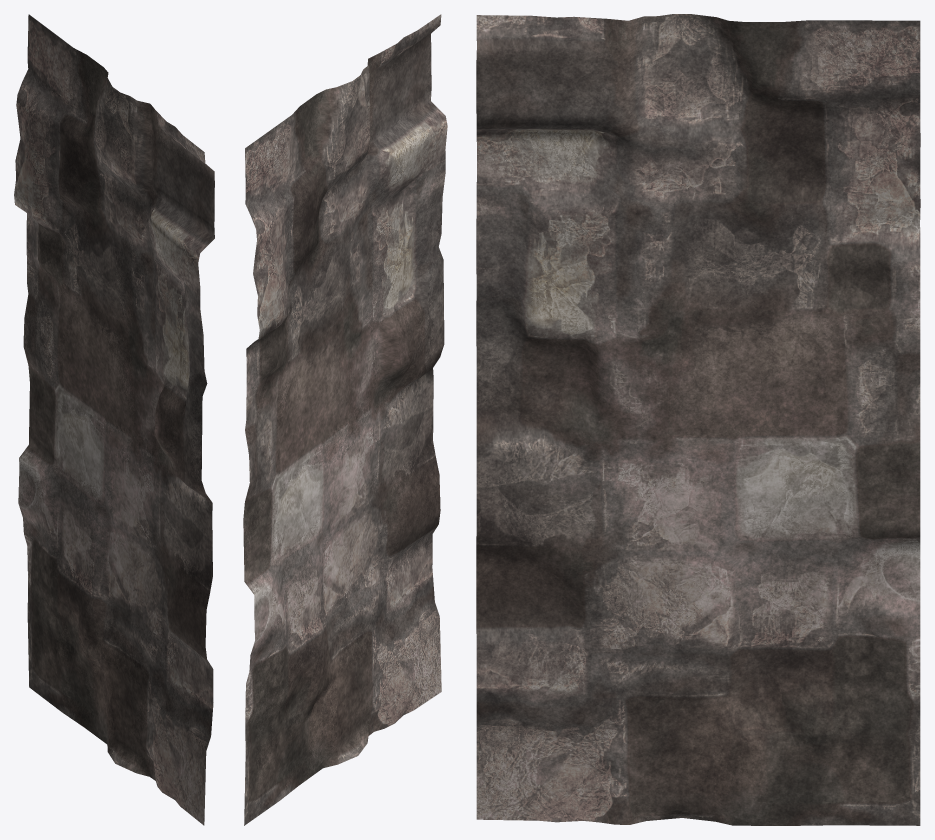
File: SM_StoneWall_A_02.fbx
The picture shows the model from 3 angles, left to right: view 1: azimuth 30°, elevation 25°; view 2: azimuth 150°, elevation 25°; view 3: azimuth 270°, elevation 25°; orthographic projection. The views are drawn at different scales.
Visible parts, largest first — view 1: SM_StoneWall_A_02_LOD0; view 2: SM_StoneWall_A_02_LOD0; view 3: SM_StoneWall_A_02_LOD0.
Boxes of the visible parts, box(x1,y1,x2,y2) form: SM_StoneWall_A_02_LOD0: box(14, 14, 214, 825); SM_StoneWall_A_02_LOD0: box(243, 14, 447, 825); SM_StoneWall_A_02_LOD0: box(476, 14, 920, 825).
Bounding box in the file's own units: 11.24 × 200 × 400.
